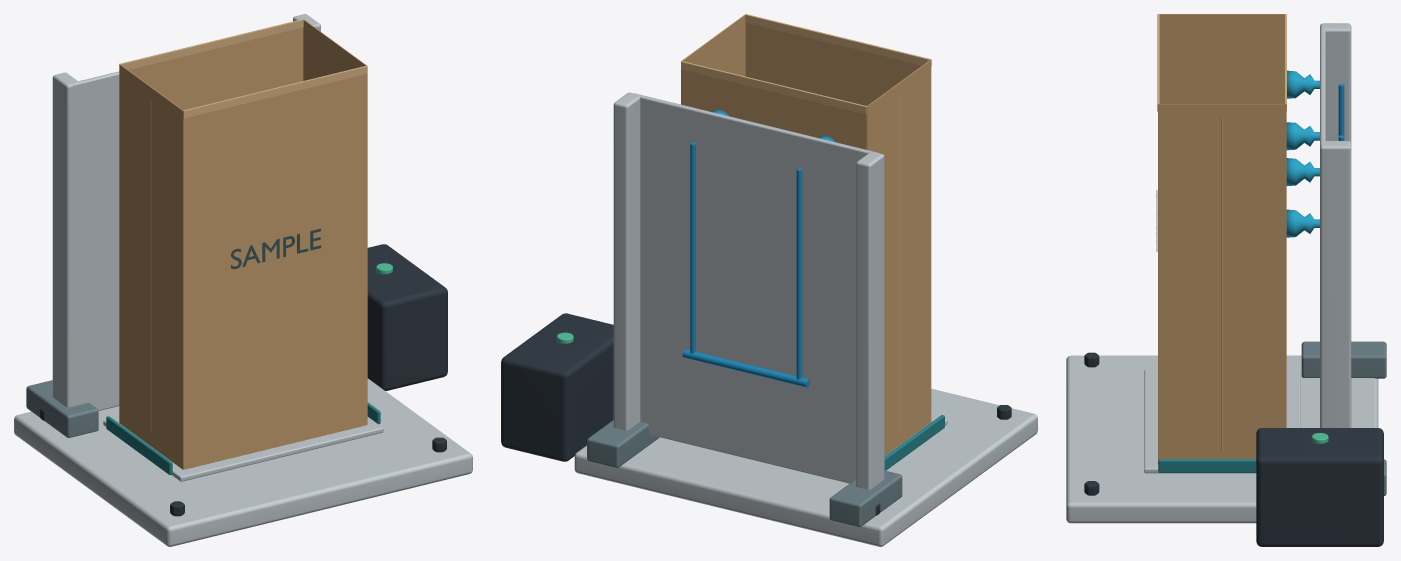
The model's file is fixed_suction.glb.
3 views of the same model, side by side, from view 1: azimuth 30°, elevation 25°; view 2: azimuth 150°, elevation 25°; view 3: azimuth 270°, elevation 25° (orthographic).
Parts seen in each view (by area): view 1: Front paper face.001, Fixed station bolted base.001, Paper gusset.002, Fixed vacuum plate.001, Vacuum valve and pressure switch.001, Rear paper face.001, Rear folded stiffener.002, Bag bottom support.001, Paper gusset.003, Fixed plate foot.002, Front paper face folded rim.001, Rear paper face folded rim.001 (+2 smaller); view 2: Fixed vacuum plate.001, Fixed station bolted base.001, Paper gusset.002, Vacuum valve and pressure switch.001, Rear folded stiffener.002, Rear folded stiffener.003, Front paper face.001, Rear paper face.001, Fixed plate foot.002, Fixed plate foot.003, Paper gusset.003, Rear paper face folded rim.001 (+6 smaller); view 3: Paper gusset.003, Fixed station bolted base.001, Vacuum valve and pressure switch.001, Paper gusset.002, Rear folded stiffener.003, Rear folded stiffener.002, Bag bottom support.001, Fixed plate foot.002, Low tray locating lip.003, Fixed vacuum plate.001, Fixed rear suction cup.006, Fixed rear suction cup.004 (+3 smaller).
Part boxes in pixels (<box>): Front paper face.001: <box>183,74,367,469</box>; Fixed station bolted base.001: <box>14,378,472,546</box>; Paper gusset.002: <box>119,64,183,469</box>; Fixed vacuum plate.001: <box>72,24,316,410</box>; Vacuum valve and pressure switch.001: <box>367,244,447,390</box>; Rear paper face.001: <box>129,27,303,110</box>; Rear folded stiffener.002: <box>52,72,79,407</box>; Bag bottom support.001: <box>103,417,383,481</box>; Paper gusset.003: <box>303,19,367,424</box>; Fixed plate foot.002: <box>26,380,98,437</box>; Front paper face folded rim.001: <box>183,65,367,118</box>; Rear paper face folded rim.001: <box>119,19,303,70</box>; Fixed vacuum plate.001: <box>633,93,878,483</box>; Fixed station bolted base.001: <box>574,388,1037,546</box>; Paper gusset.002: <box>867,60,931,455</box>; Vacuum valve and pressure switch.001: <box>501,313,613,461</box>; Rear folded stiffener.002: <box>856,152,884,489</box>; Rear folded stiffener.003: <box>613,92,640,430</box>; Front paper face.001: <box>745,22,921,105</box>; Rear paper face.001: <box>681,69,866,149</box>; Fixed plate foot.002: <box>829,470,902,527</box>; Fixed plate foot.003: <box>587,420,659,467</box>; Paper gusset.003: <box>681,14,745,76</box>; Rear paper face folded rim.001: <box>681,61,866,114</box>; Paper gusset.003: <box>1158,104,1285,459</box>; Fixed station bolted base.001: <box>1066,355,1378,523</box>; Vacuum valve and pressure switch.001: <box>1256,428,1383,546</box>; Paper gusset.002: <box>1158,14,1285,103</box>; Rear folded stiffener.003: <box>1320,141,1351,427</box>; Rear folded stiffener.002: <box>1320,23,1351,142</box>; Bag bottom support.001: <box>1144,369,1300,473</box>; Fixed plate foot.002: <box>1301,341,1386,378</box>; Low tray locating lip.003: <box>1158,459,1256,472</box>; Fixed vacuum plate.001: <box>1320,25,1325,145</box>; Fixed rear suction cup.006: <box>1286,209,1319,237</box>; Fixed rear suction cup.004: <box>1286,158,1319,185</box>.
Size of the model in its own units: 0.3075 by 0.304 by 0.226.
